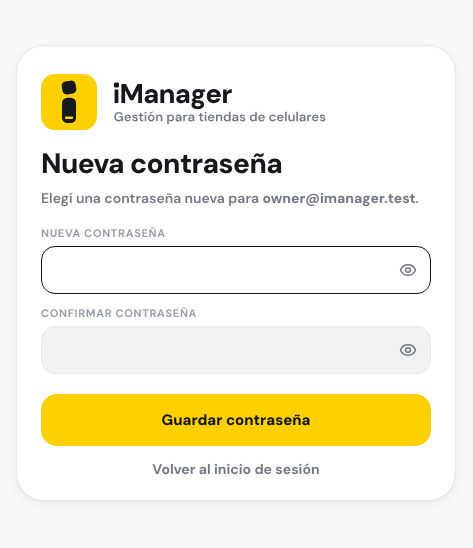
Test: AuthActionPage › shows a spanish message for auth/network-request-failed and keeps the form
Expected: the text with test id "auth-action-email" reads "owner@imanager.test", [262, 189, 416, 207]
Type "nueva-clave-1" into the password field with test id "reset-password" at coordinates (236, 270), box [41, 246, 431, 294]
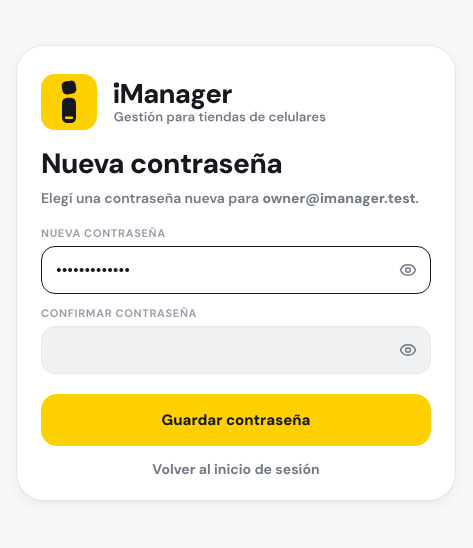
Type "nueva-clave-1" into the password field with test id "reset-password-confirm" at coordinates (236, 350), box [41, 326, 431, 374]
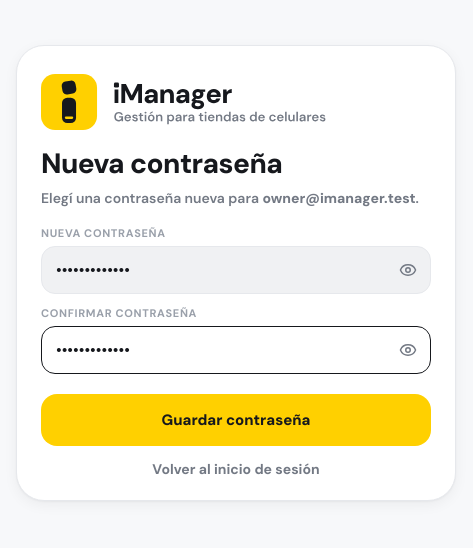
Click the button with test id "reset-password-submit" at coordinates (236, 420), box [41, 394, 431, 446]
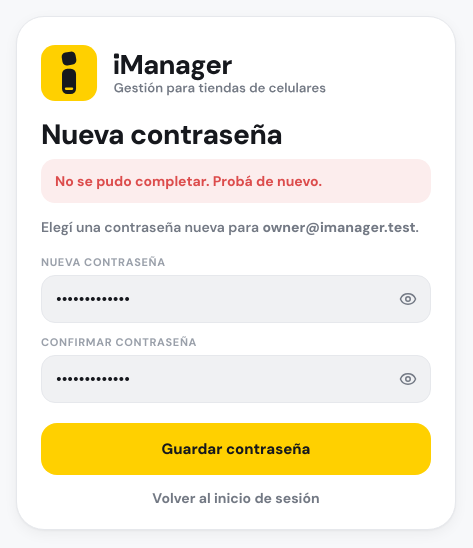
Expected: the button with test id "reset-password-submit" is enabled, [41, 423, 431, 475]
Expected: the text "No se pudo completar. Probá de nuevo." is shown, [41, 159, 431, 203]
